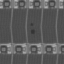dust: (29, 21, 34, 26), (30, 29, 36, 33)
